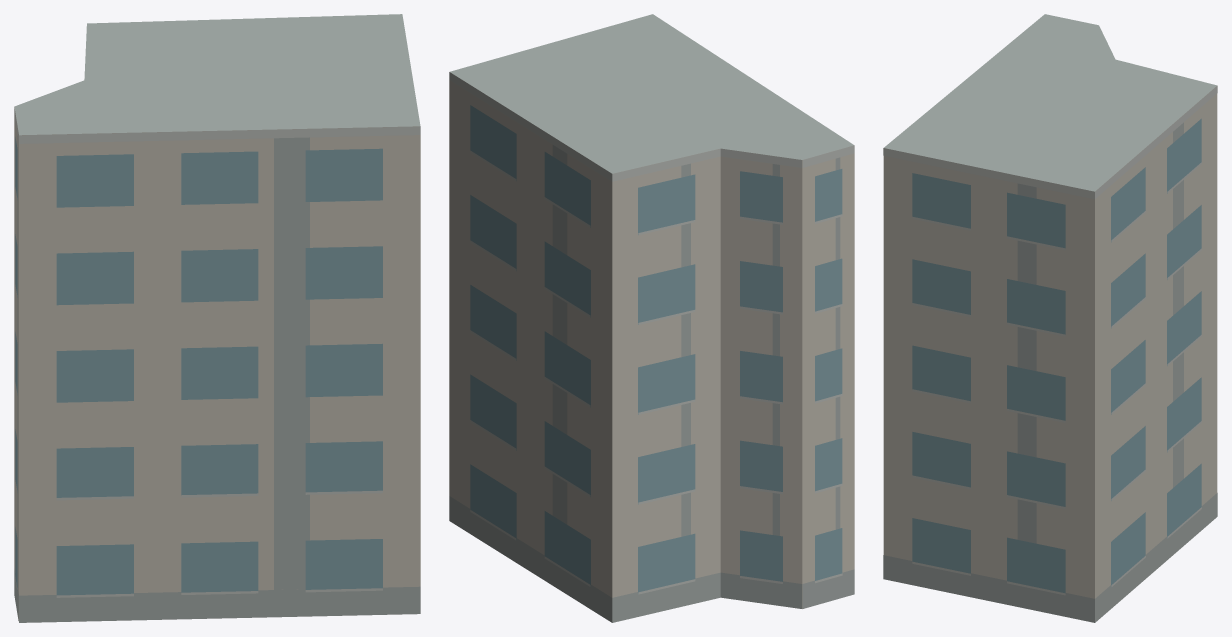
The model's file is survey-upis-32908012.glb.
The picture shows the model from 3 angles, left to right: view 1: azimuth 30°, elevation 25°; view 2: azimuth 150°, elevation 25°; view 3: azimuth 270°, elevation 25°; orthographic projection. The views are drawn at different scales.
Parts seen in each view (by area): view 1: survey-upis-32908012.tmp; view 2: survey-upis-32908012.tmp; view 3: survey-upis-32908012.tmp.
Part boxes in pixels (x1=…): survey-upis-32908012.tmp: x1=14, y1=14, x2=420, y2=622; survey-upis-32908012.tmp: x1=449, y1=14, x2=854, y2=622; survey-upis-32908012.tmp: x1=883, y1=14, x2=1217, y2=622.
Size of the model in its own units: 12.02 by 13.6 by 9.55.
